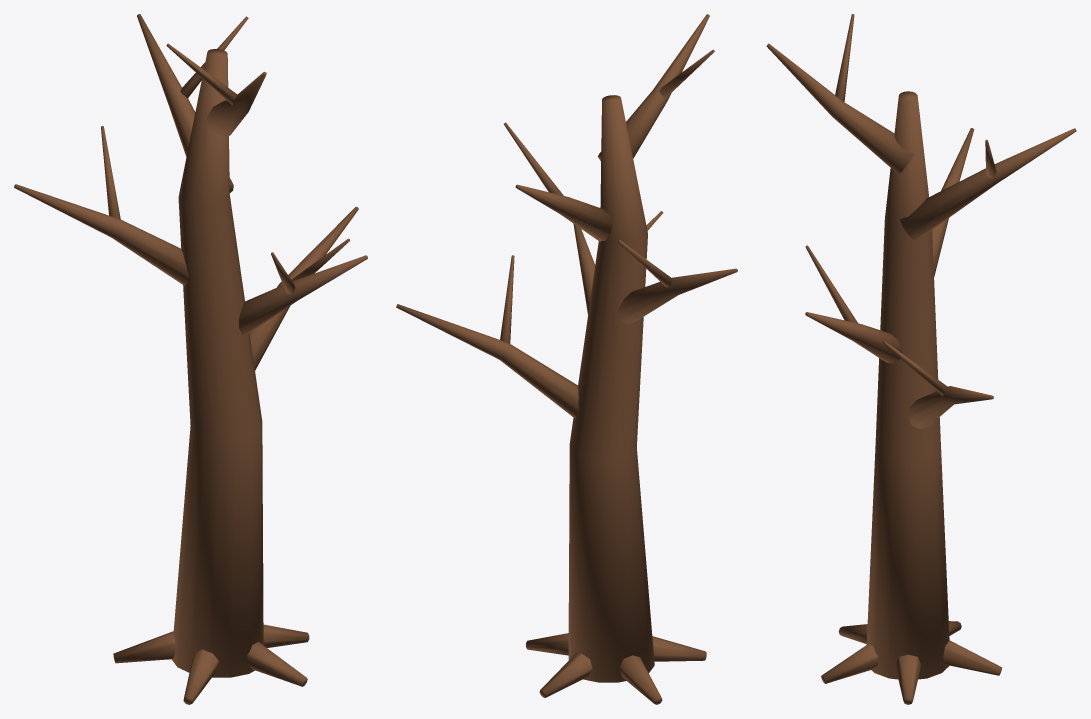
Rendered from dead_tree.glb.
3 renders of one model, left to right at view 1: azimuth 30°, elevation 25°; view 2: azimuth 150°, elevation 25°; view 3: azimuth 270°, elevation 25°, orthographic. The views are drawn at different scales.
Visible parts, largest first — view 1: LH_dead_tree; view 2: LH_dead_tree; view 3: LH_dead_tree.
Boxes of the visible parts, x1,y1,x2,y2 form: LH_dead_tree: [14, 14, 367, 704]; LH_dead_tree: [396, 14, 737, 704]; LH_dead_tree: [766, 14, 1076, 704].
Bounding box in the file's own units: 0.7957 × 1.42 × 0.647.
